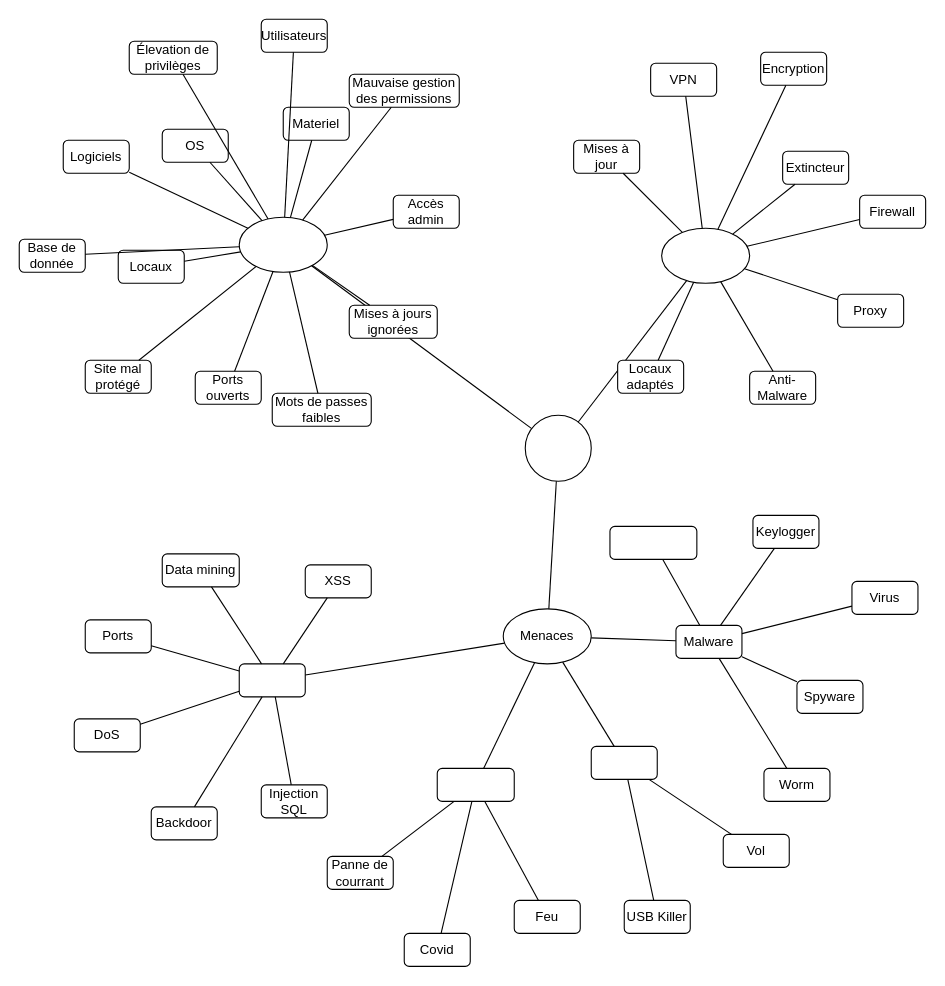
This 945x986 diagram has some shape labels left out. The shapes that lost their labels are listed below. From the top down, each one's box as (x1, y1, x2, y2) in pixels, then its label:
(238, 216, 327, 272): Vulnerabilités
(661, 227, 750, 283): Contre-Mesures
(524, 414, 591, 481): Sécurité
(609, 525, 697, 559): Ransomware
(238, 663, 305, 697): Hacker
(590, 745, 657, 779): Intrusion
(436, 767, 514, 801): Catastrophe naturelle
